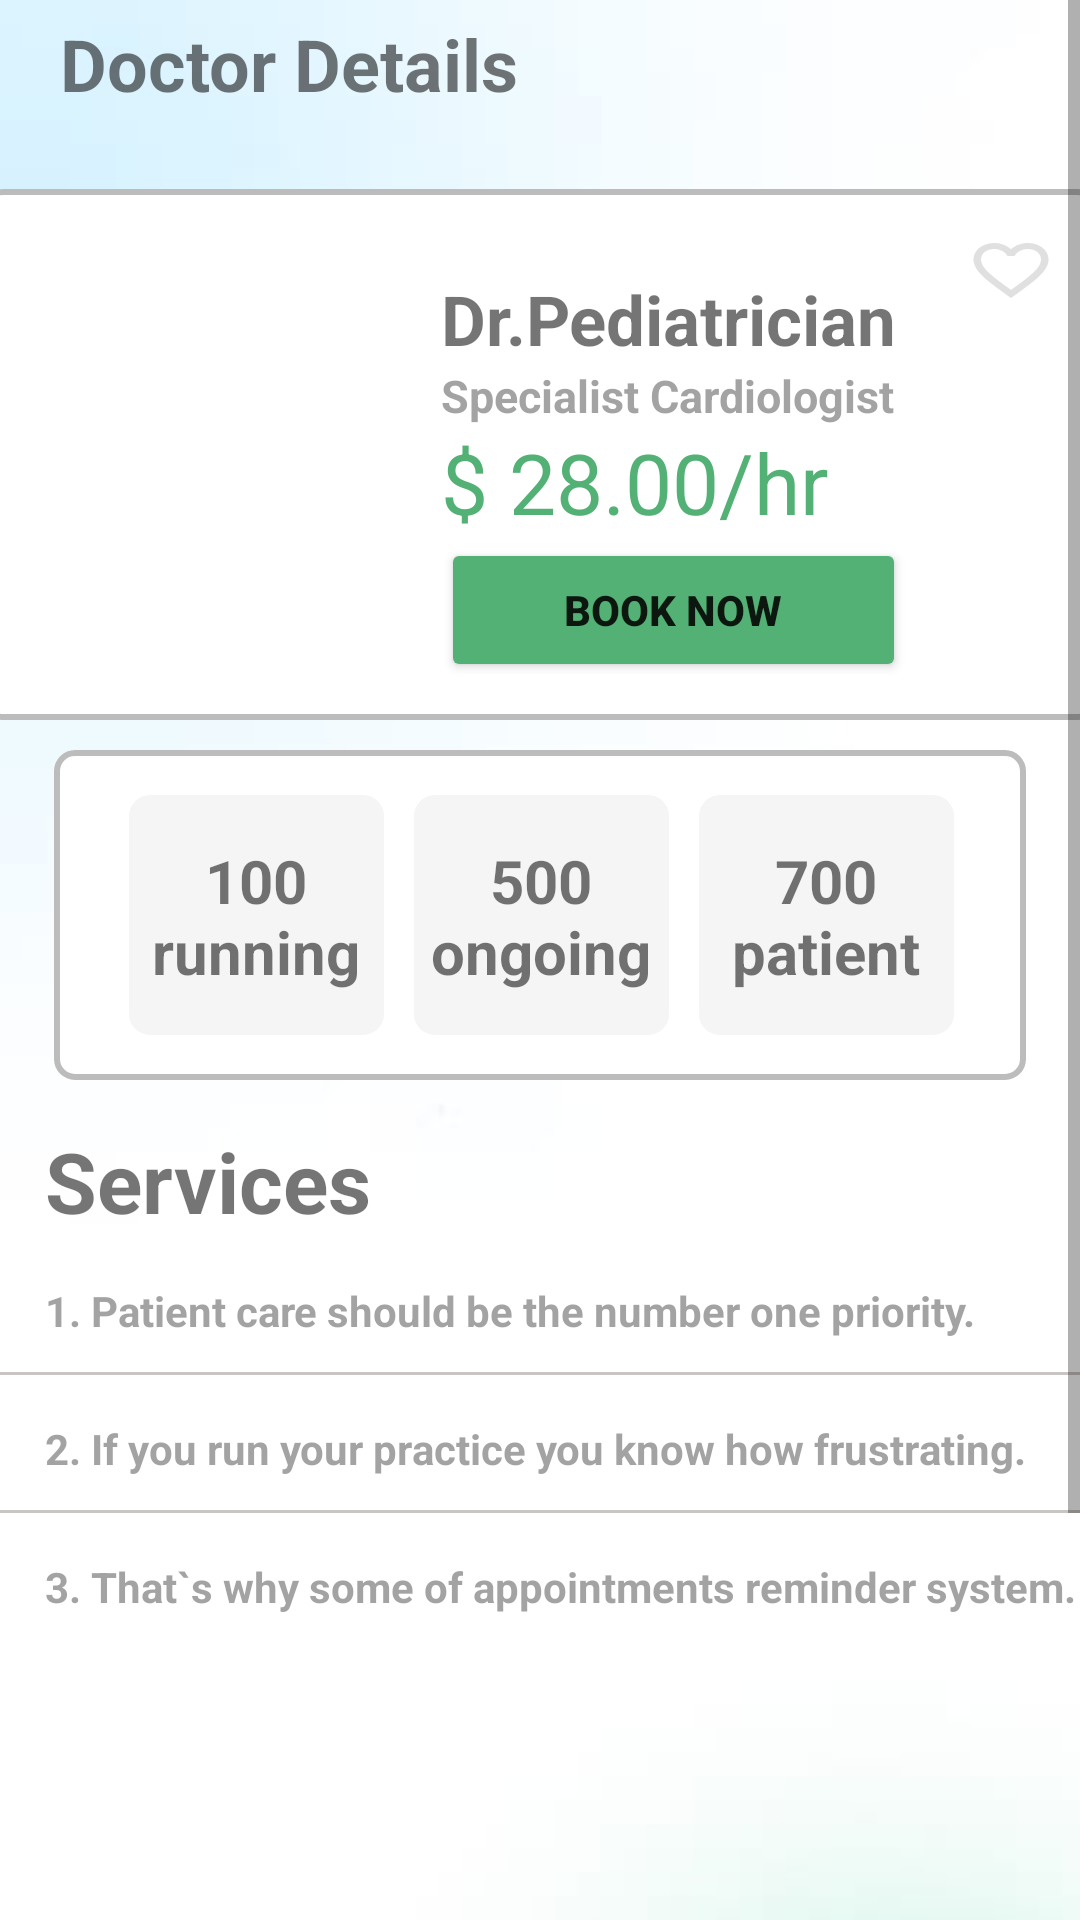

Icons on this 1080w x 1920h Android screen, each with the point to tap as [x,y]:
favorite border: [1011,270]
